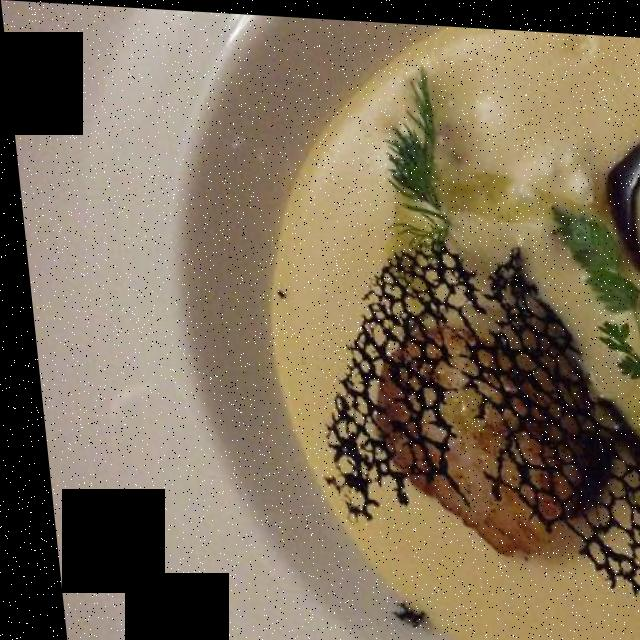sauce-cream: (268, 63, 640, 588)
